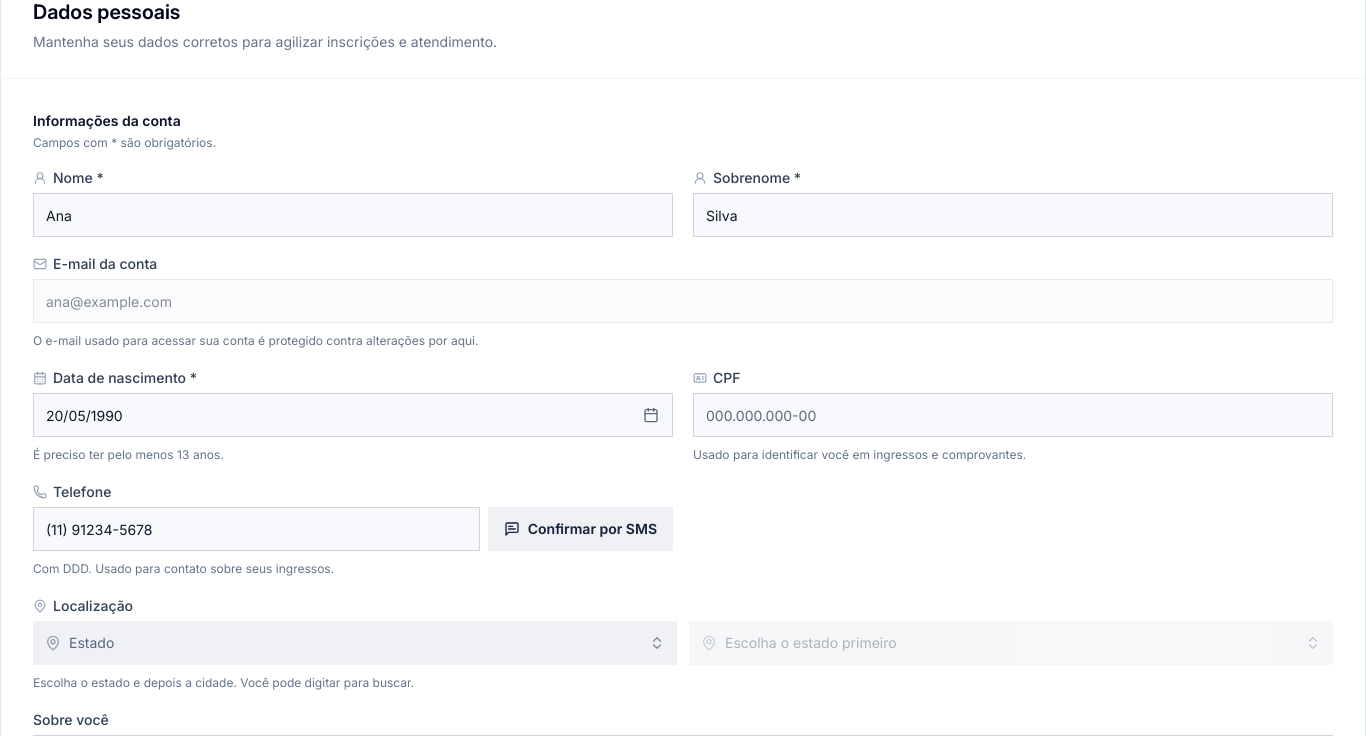
Test: ProfileDetailsForm › shows the saved phone and refuses an invalid one
Step 1. Type "0012345678" into the field labelled "Telefone" → (256, 529), box [33,507,480,551]
(page scrolled)
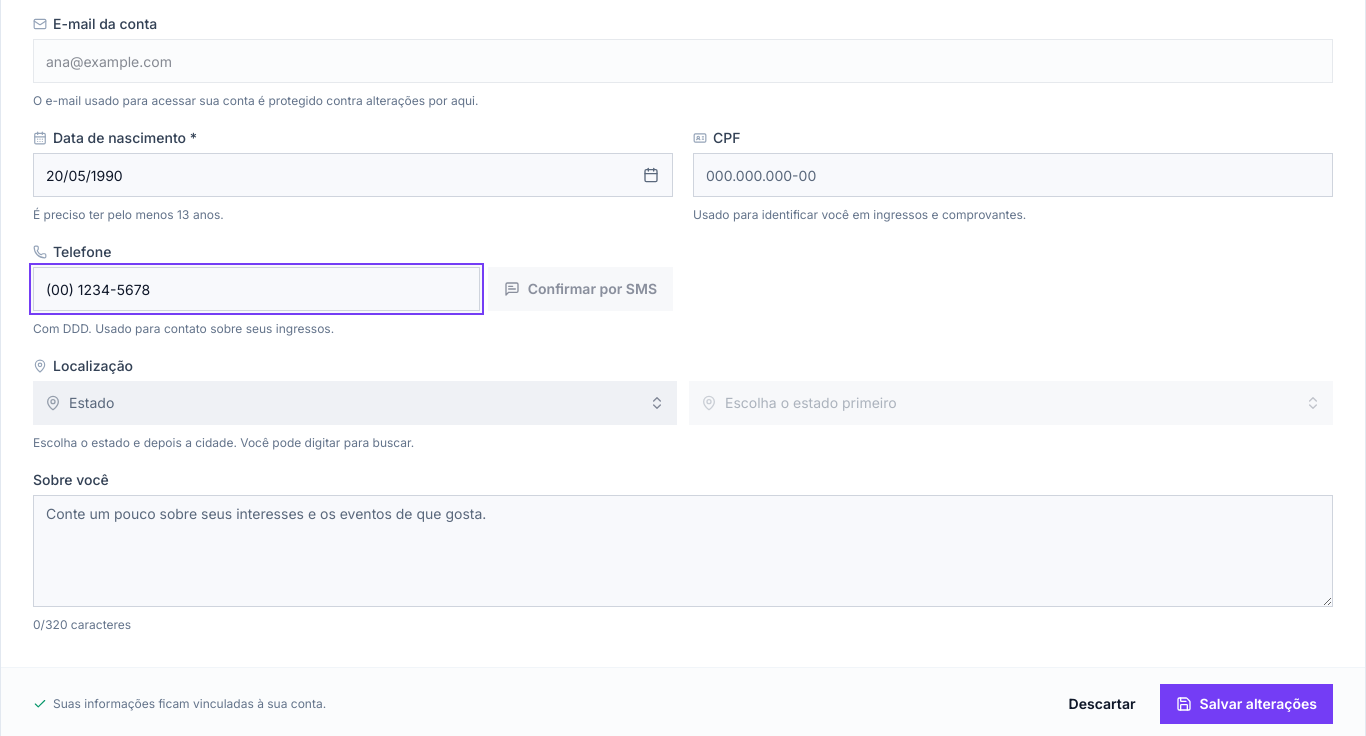
Step 2. Click the 3rd button named "salvar alterações" → (1246, 704), box [1160,684,1333,724]
(page scrolled)
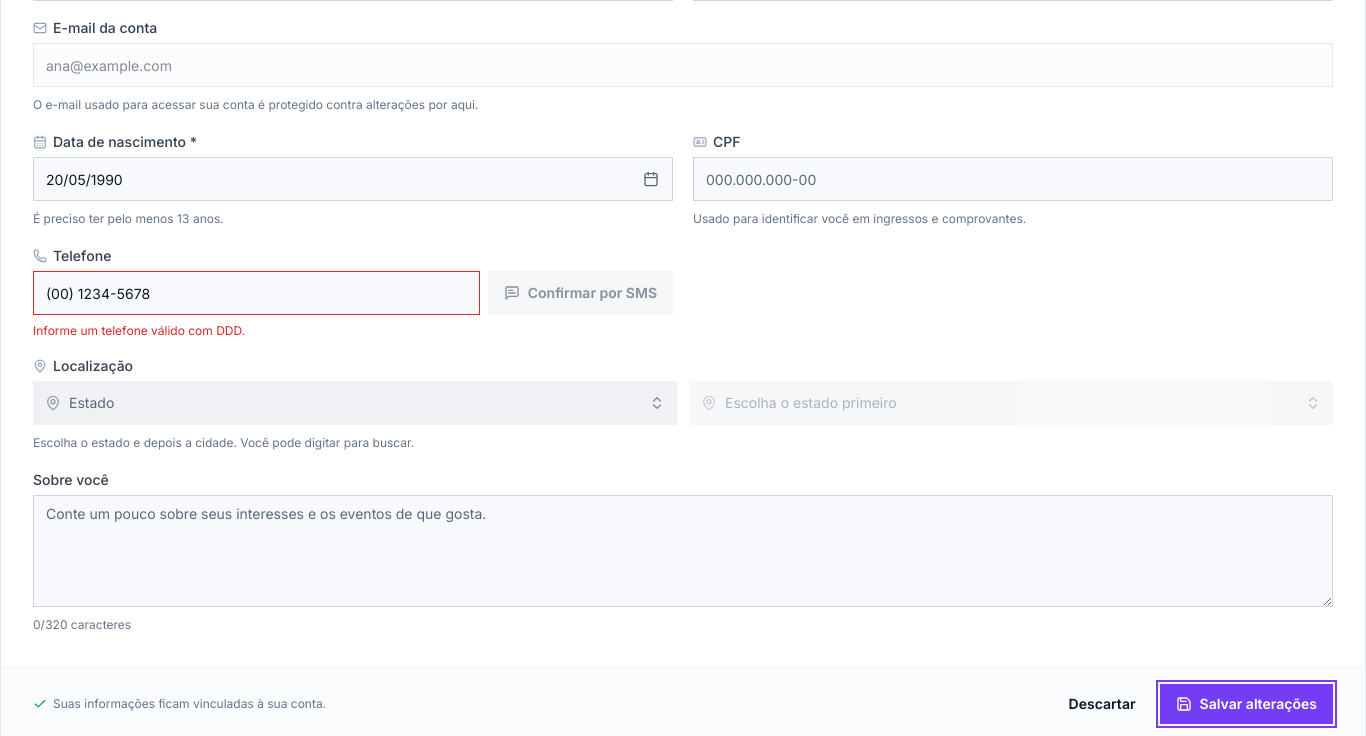
Now the text "Informe um telefone válido com DDD." is shown, box [33,323,245,338]
